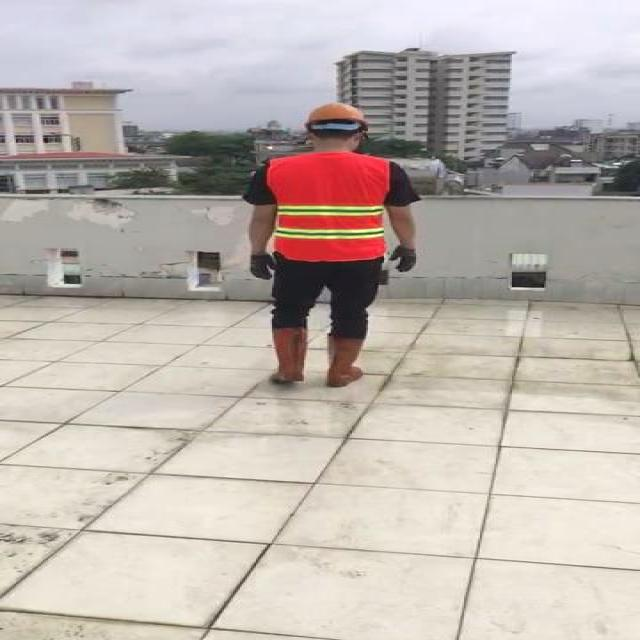boots: (322, 334, 372, 386), (269, 325, 311, 386)
hand_glove: (249, 253, 275, 281), (391, 247, 418, 272)
head_helmet: (307, 101, 369, 124)
person: (241, 100, 426, 394)
vest: (272, 153, 393, 262)
